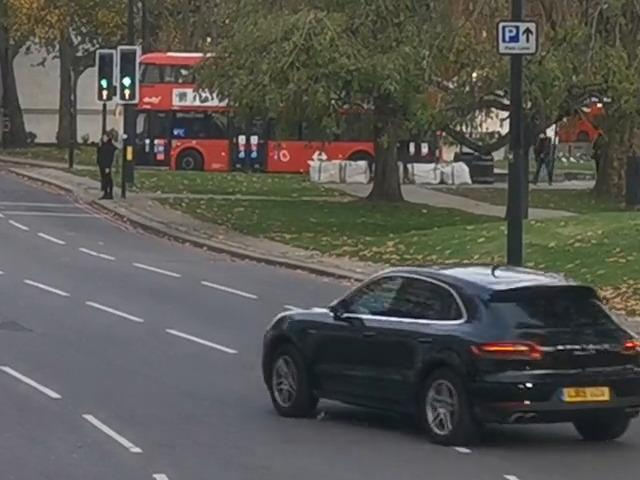bus: (126, 37, 438, 173)
car: (262, 251, 640, 443)
